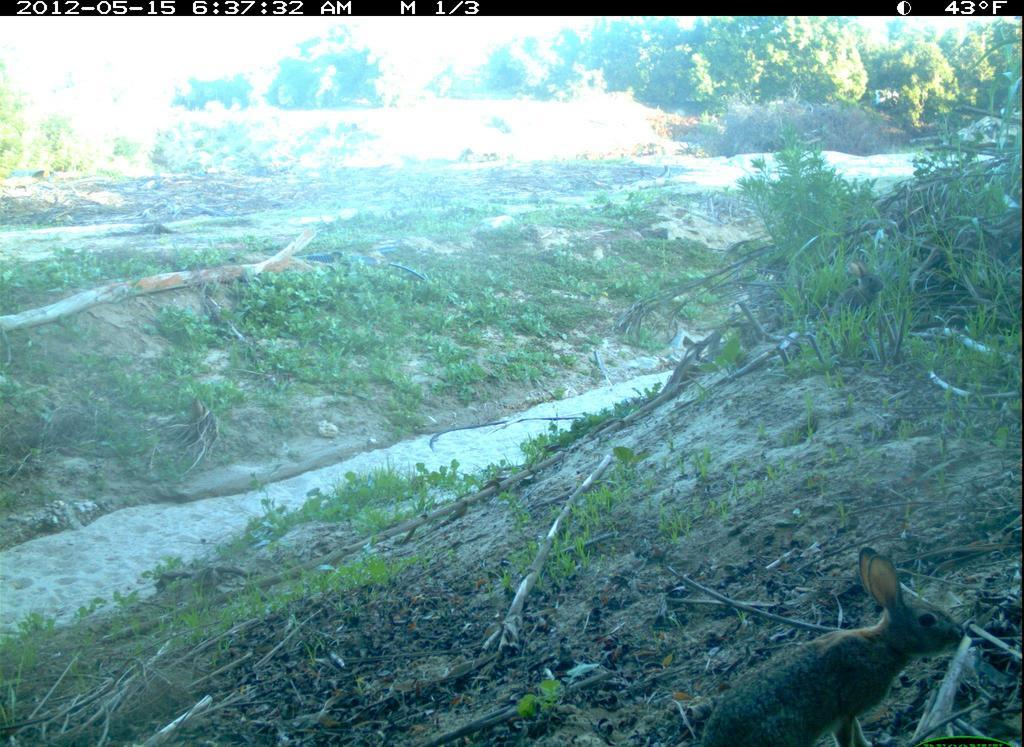rabbit: (697, 546, 969, 745)
